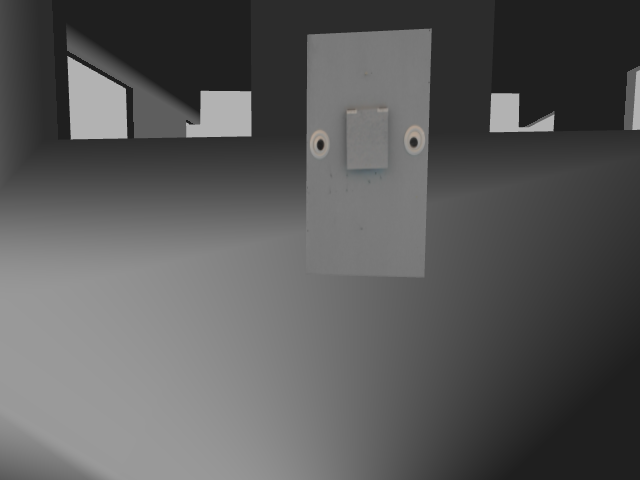facade: (308, 106, 425, 174)
